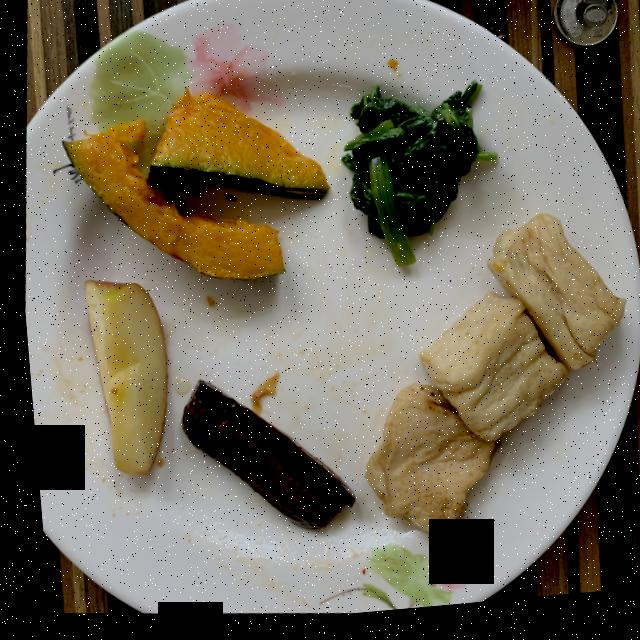apple -sliced-: (79, 281, 160, 476)
coin: (552, 0, 616, 57)
creamy tofu -without sauce-: (357, 223, 619, 554)
firm tofu: (174, 383, 346, 532)
mustard greens: (338, 89, 492, 271)
pumpkin: (61, 92, 325, 283)
